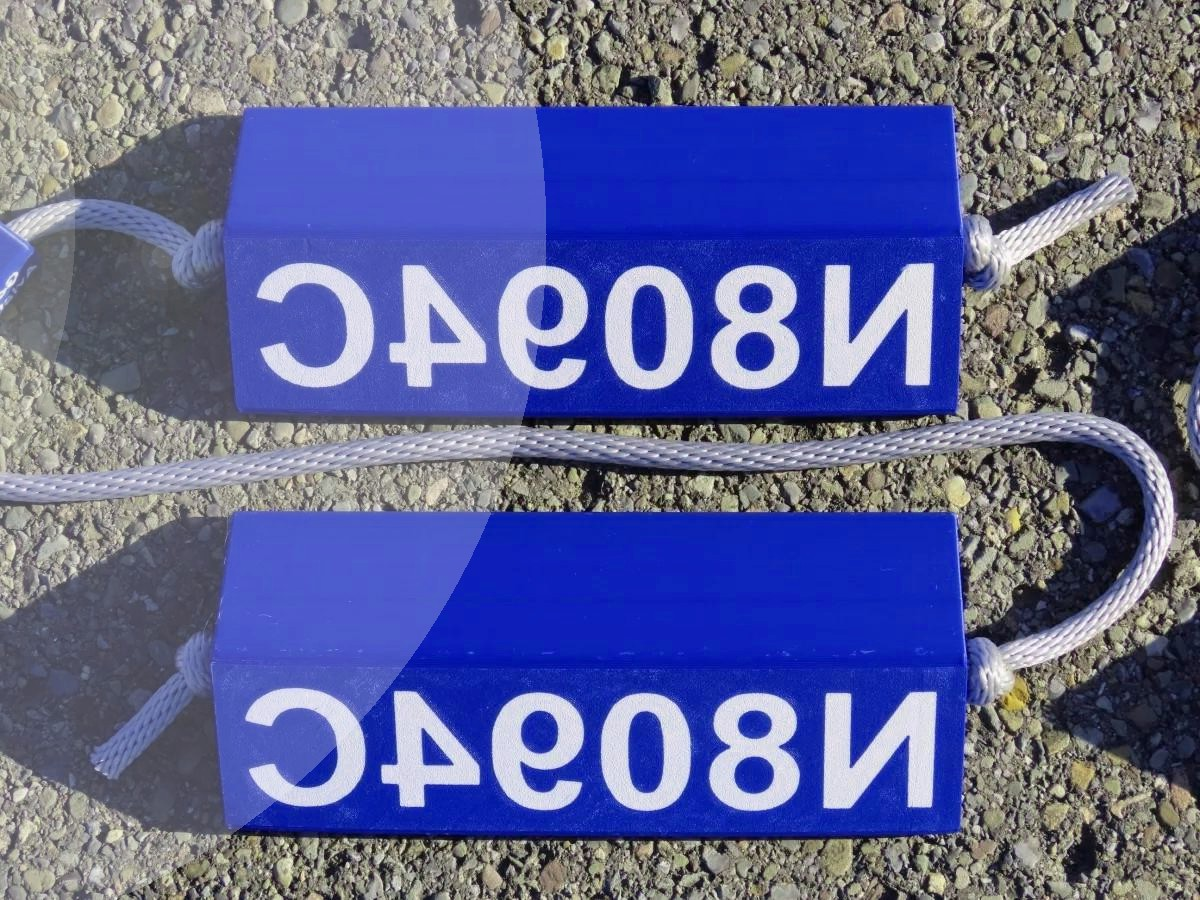chock: (212, 500, 971, 839), (229, 95, 969, 420)
